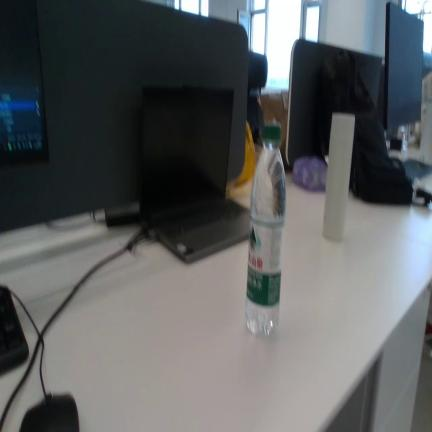bottle: (245, 121, 286, 335)
